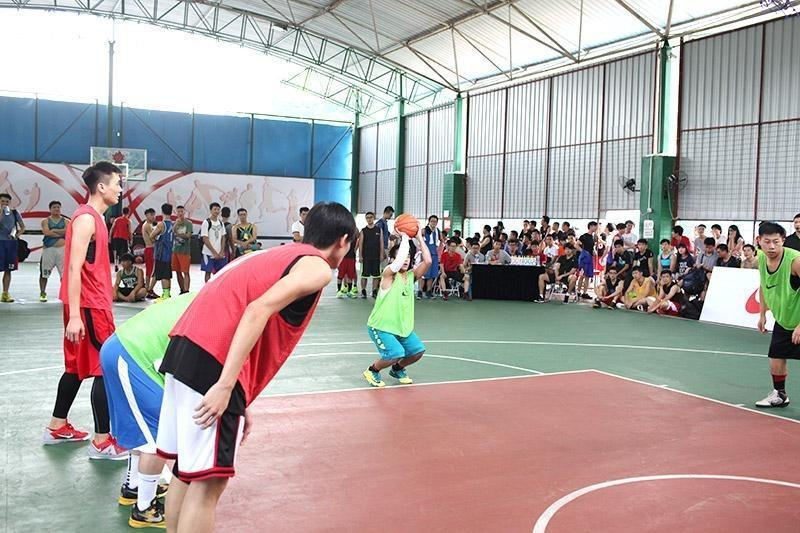ball: (393, 212, 419, 238)
human: (152, 199, 360, 533), (40, 160, 136, 462), (362, 220, 432, 388), (751, 218, 800, 410)
